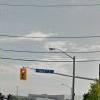Traffic light: (15, 55, 35, 85)
